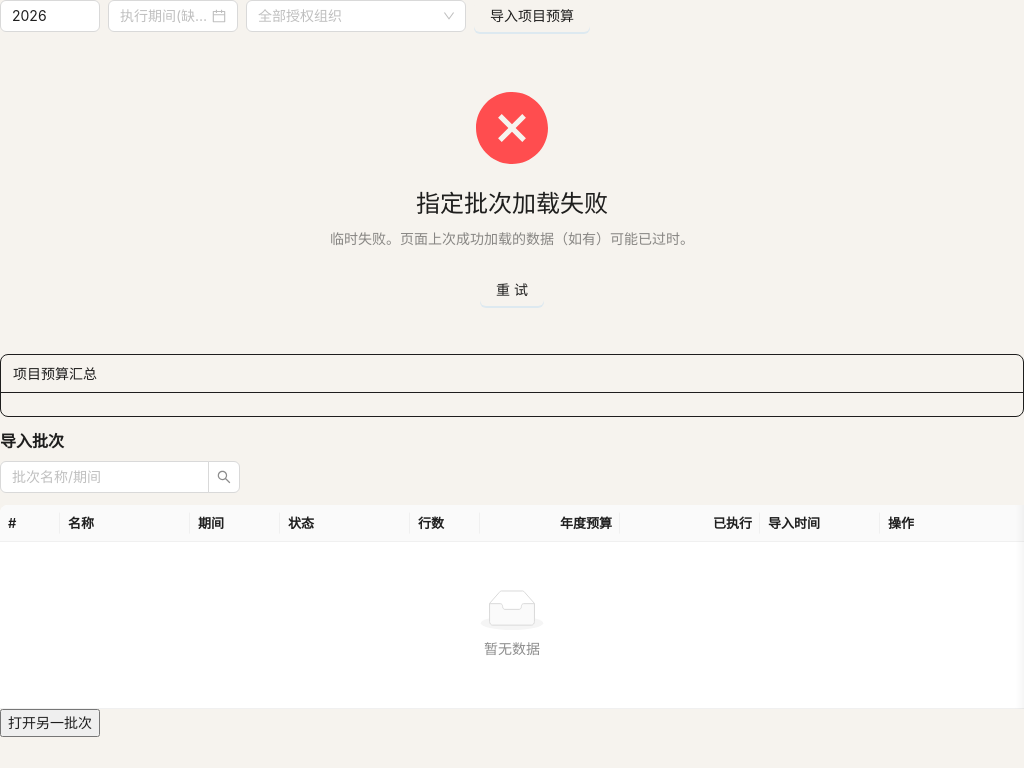
预算批次分页与操作 AC-F09/F26 › 批次加载失败保留深链并提供重试,成功后展示明细
Expected: the text "指定批次加载失败" is shown, [416,189,608,218]
What coordinates should you click on to do the following:
click the button "重 试"
I would click on:
 (512, 290)
Its box is [480,274,544,306].
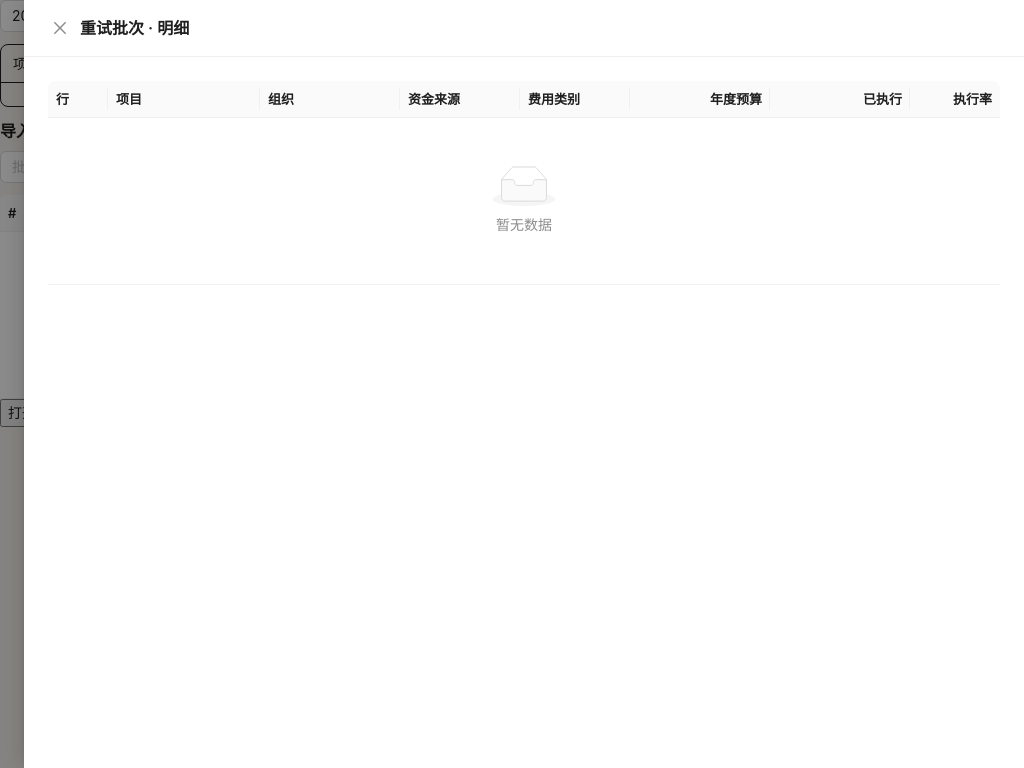
Result: the text "重试批次 · 明细" is shown at [80,18,189,38]
